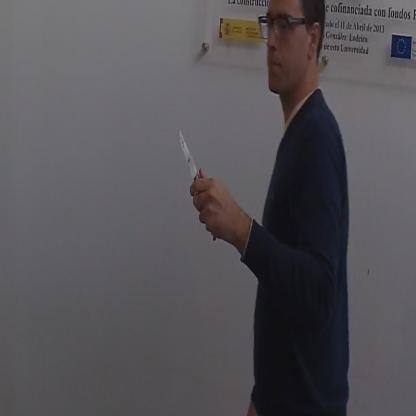knife: (175, 120, 218, 243)
